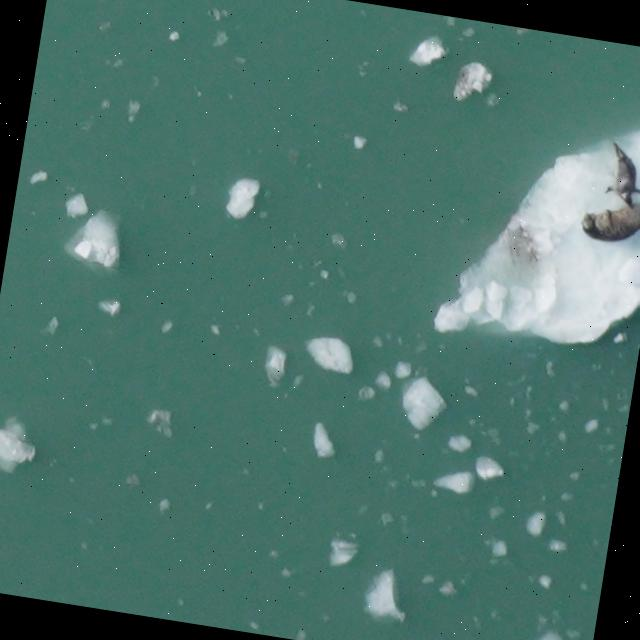seal: (578, 181, 640, 251), (597, 138, 640, 213)
